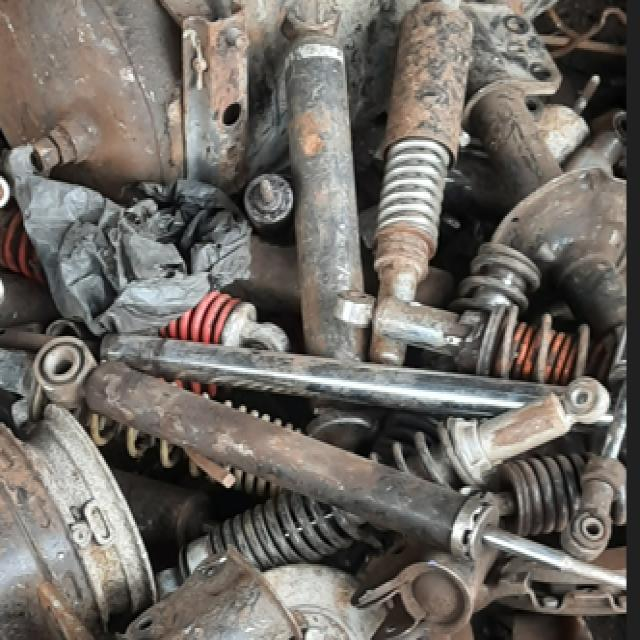shock absorber: (31, 336, 626, 591), (370, 1, 472, 365)
